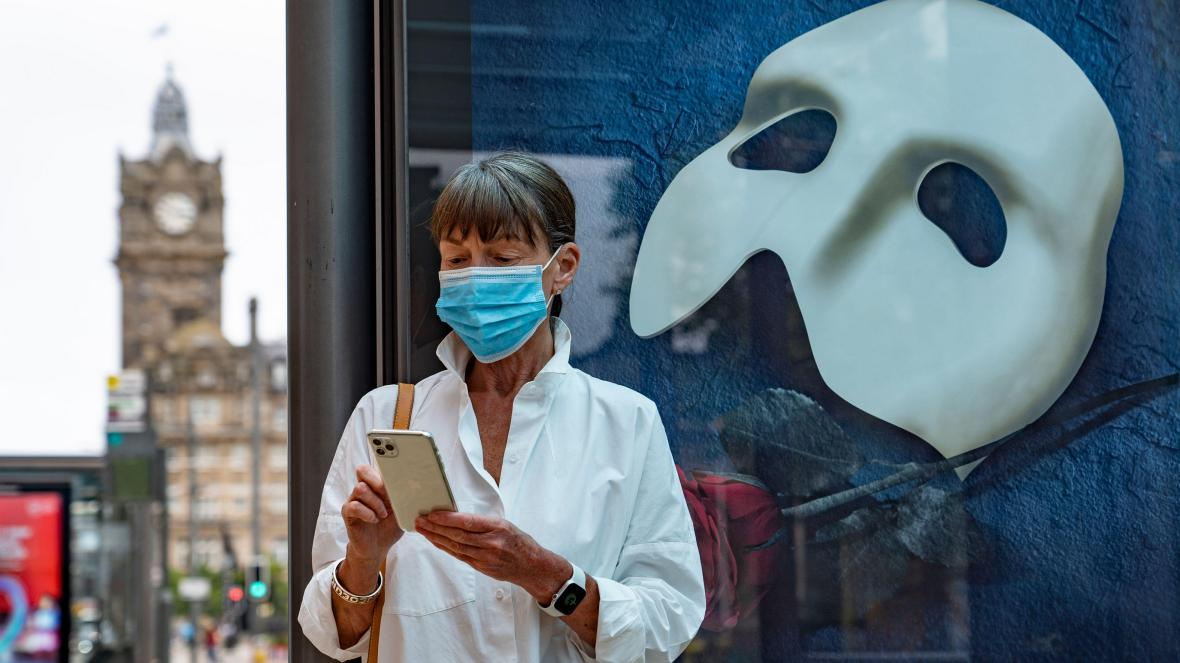with_mask: (426, 208, 567, 372)
